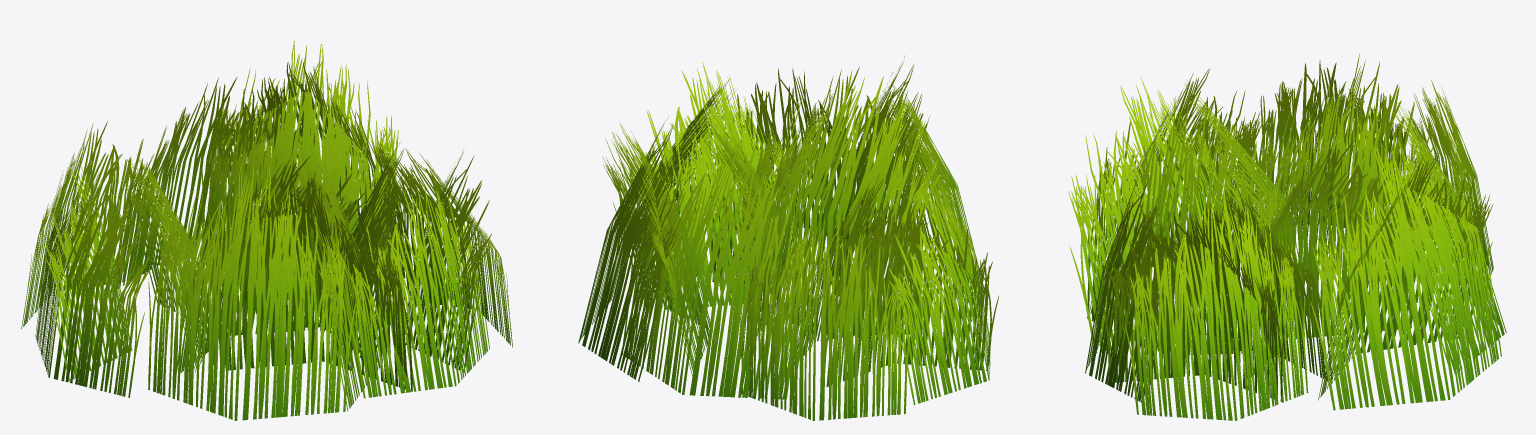
The model's file is Grass.FBX.
3 views of the same model, side by side, from view 1: azimuth 30°, elevation 25°; view 2: azimuth 150°, elevation 25°; view 3: azimuth 270°, elevation 25° (orthographic). The views are drawn at different scales.
Parts seen in each view (by area): view 1: GrassOriginal; view 2: GrassOriginal; view 3: GrassOriginal.
Part boxes in pixels (<box>): GrassOriginal: <box>21,40,512,420</box>; GrassOriginal: <box>578,56,998,420</box>; GrassOriginal: <box>1068,53,1506,420</box>.
Size of the model in its own units: 2.05 by 0.9852 by 1.87.
